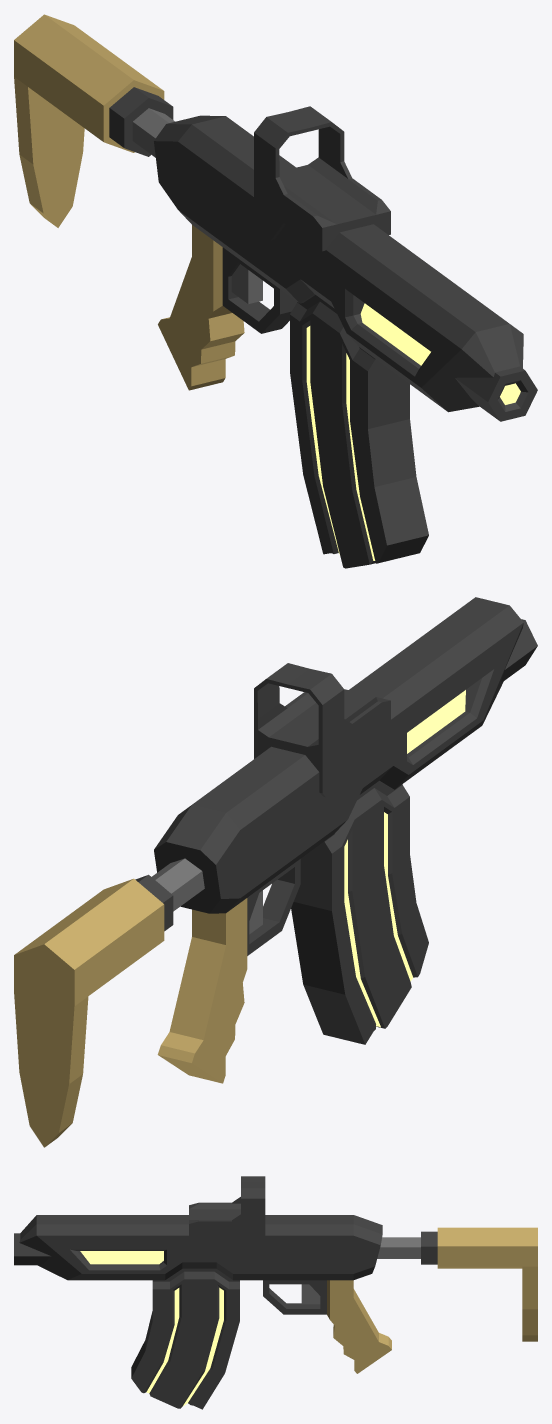
File: Carbine.fbx
The picture shows the model from 3 angles, top to bottom: view 1: azimuth 30°, elevation 25°; view 2: azimuth 150°, elevation 25°; view 3: azimuth 270°, elevation 25°; orthographic projection. The views are drawn at different scales.
Visible parts, largest first — view 1: Carbine; view 2: Carbine; view 3: Carbine.
Part boxes in pixels (x1,y1,x2,y2): Carbine: [14, 14, 537, 568]; Carbine: [14, 597, 537, 1147]; Carbine: [14, 1176, 537, 1409].
Size of the model in its own units: 51.2 by 283 by 605.
